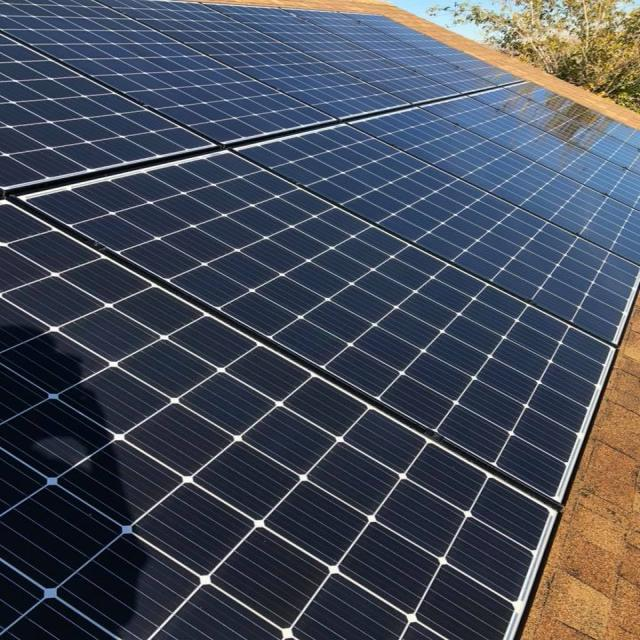clean-solar-panel: (3, 0, 635, 640)
